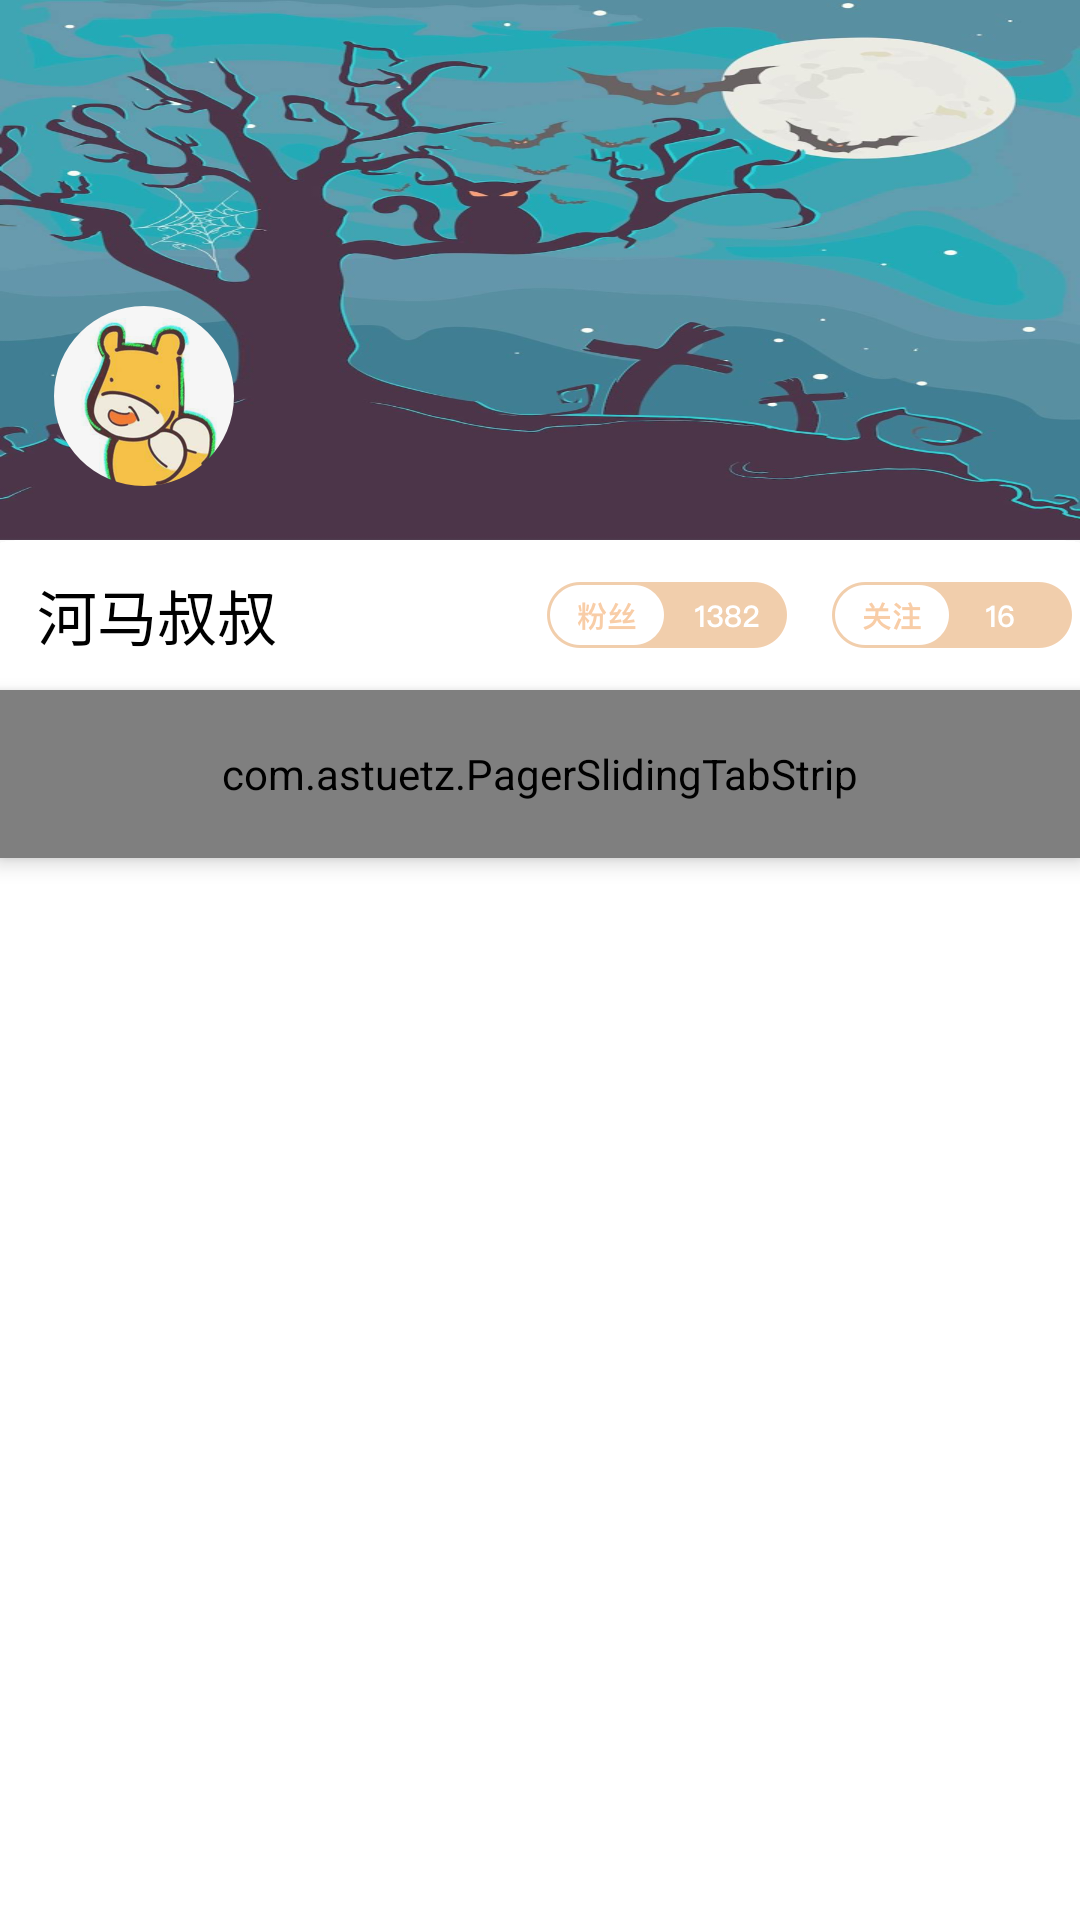

Icons on this 1080x1920 Android screen, each with the point to tap as (x,y):
head: (144,396)
